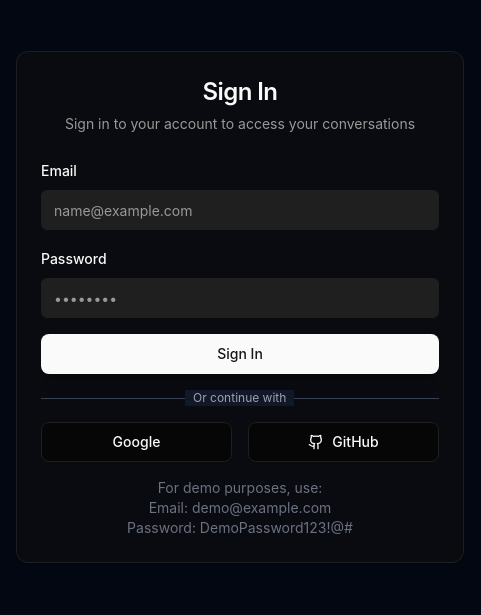
Test case: SignIn Page › displays error message on failed signin
Type "test@example.com" into the field labelled "Email" at coordinates (240, 210), box [41, 190, 439, 230]
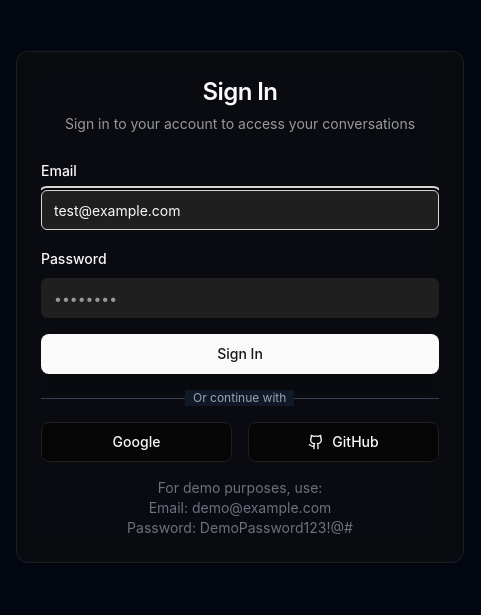
Type "wrongpassword" into the password field labelled "Password" at coordinates (240, 298), box [41, 278, 439, 318]
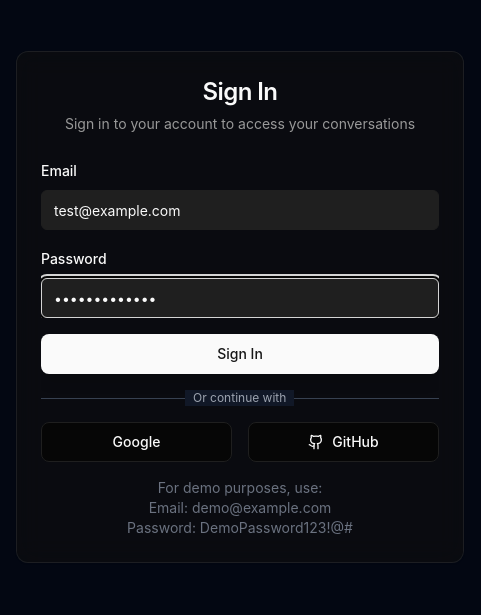
Click the button "Sign In" at coordinates (240, 354), box [41, 334, 439, 374]
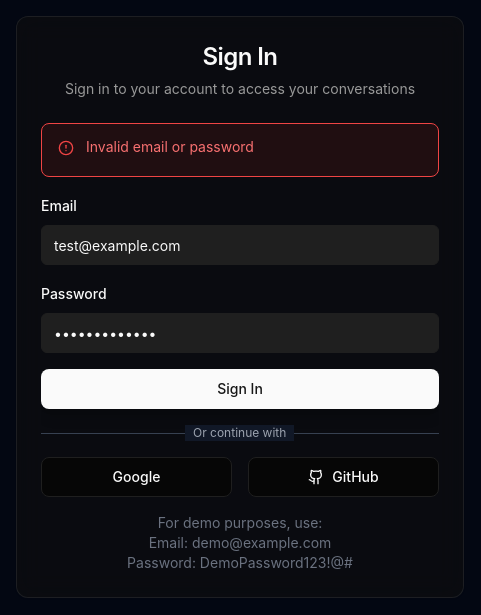
Expected: the text "Invalid email or password" is shown, [86, 138, 254, 155]
